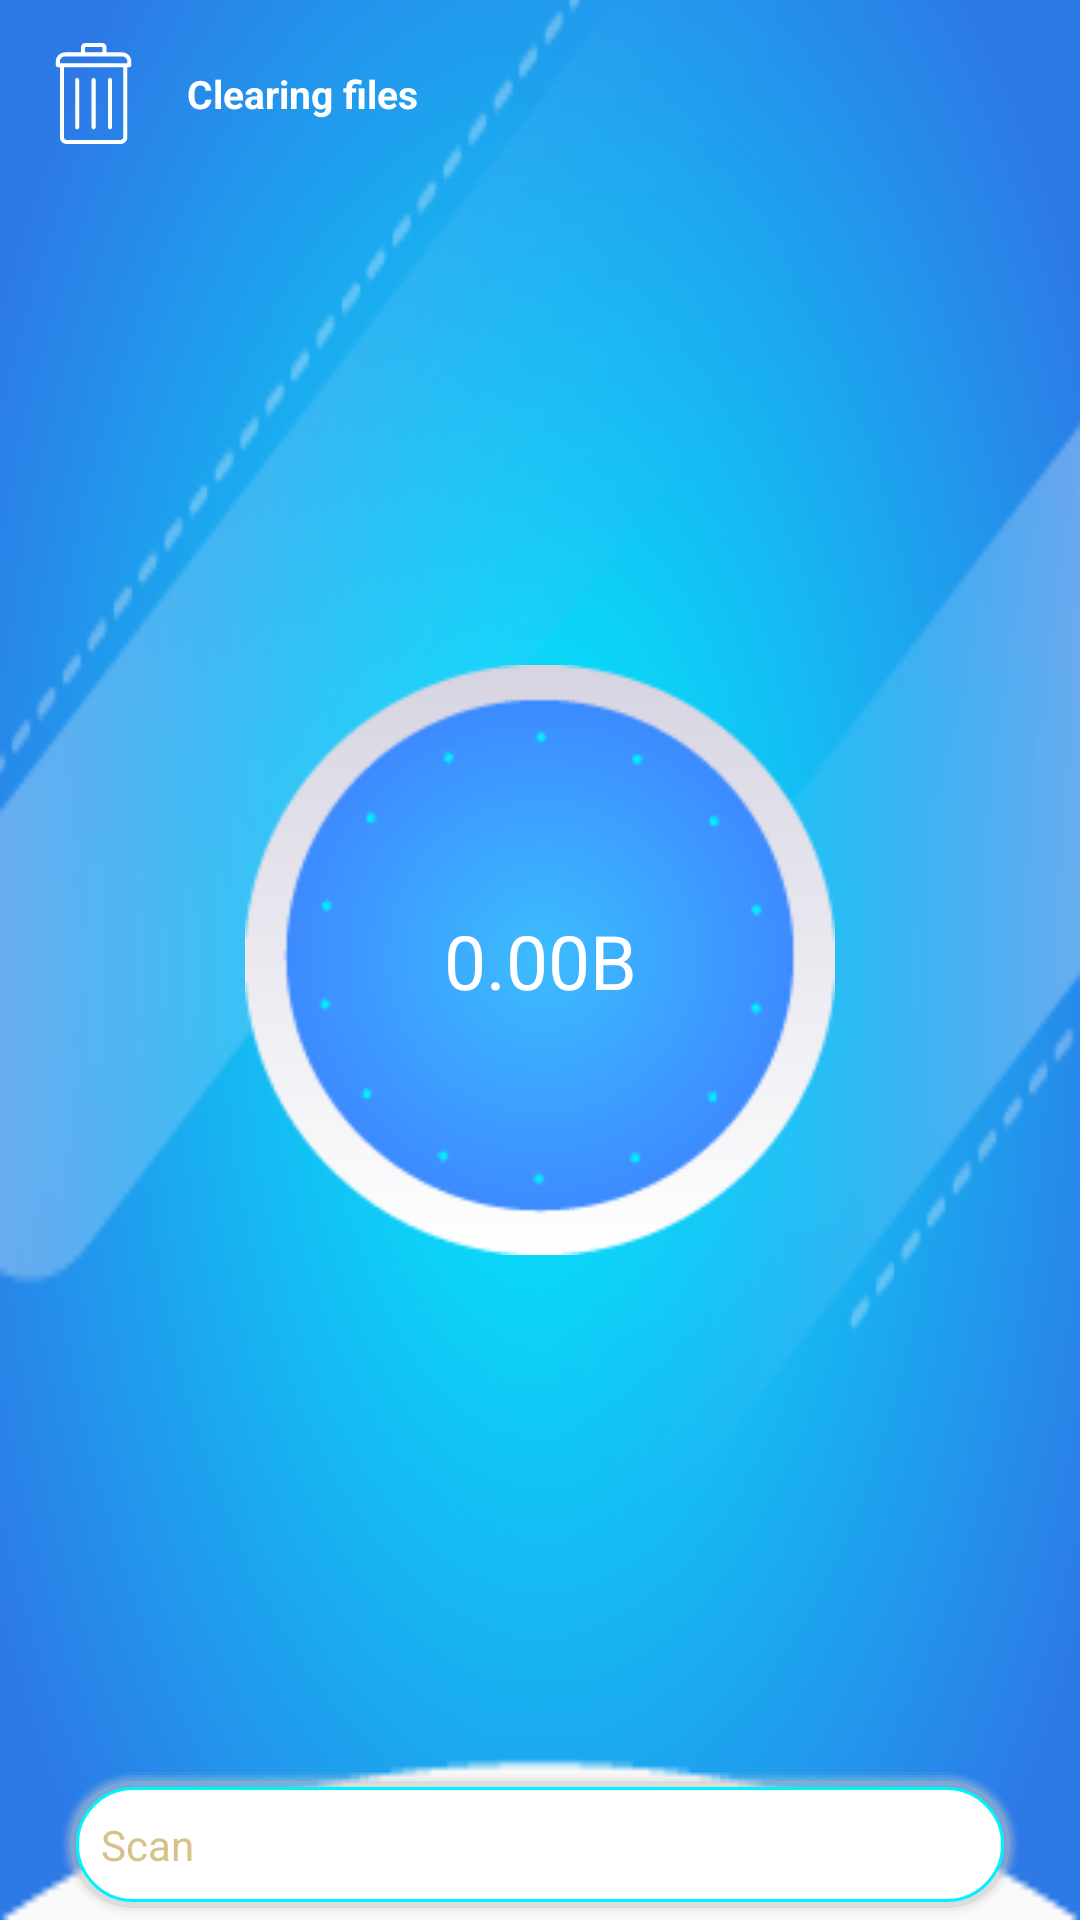

Screen size 1080×1920. Icon name, then its center in pixels as (x=x, y=y):
junk files action bar: (x=93, y=93)
